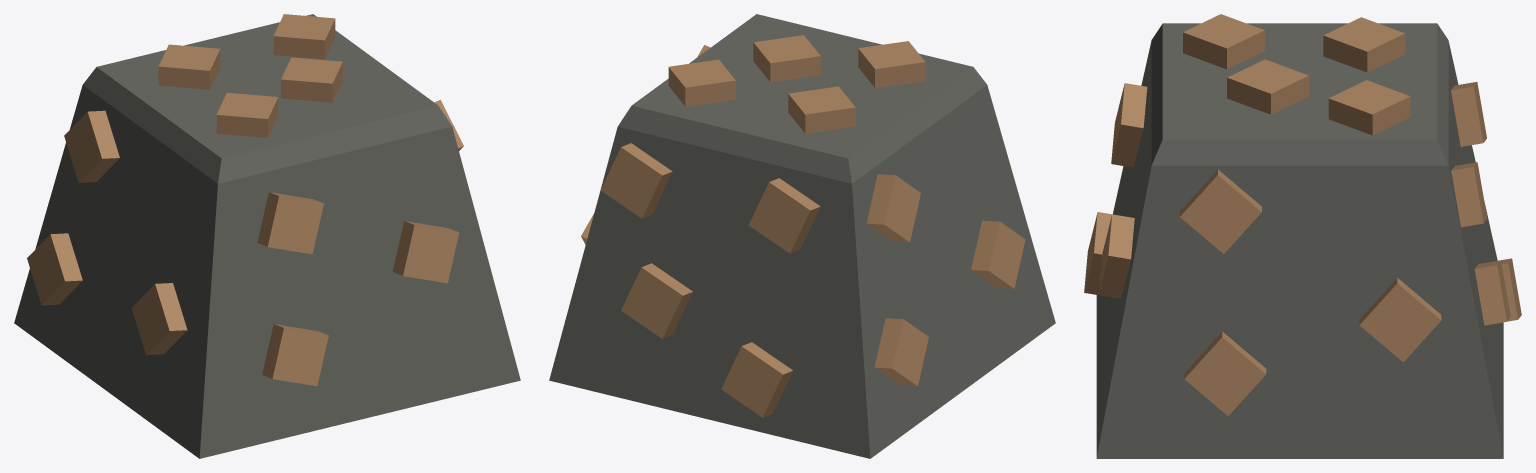
Rendered from IronOreDrop.fbx.
3 renders of one model, left to right at view 1: azimuth 30°, elevation 25°; view 2: azimuth 150°, elevation 25°; view 3: azimuth 270°, elevation 25°, orthographic. The views are drawn at different scales.
Parts seen in each view (by area): view 1: IronOre; view 2: IronOre; view 3: IronOre.
Part boxes in pixels (left/top/right/bottom): IronOre: left=14, top=14, right=520, bottom=458; IronOre: left=549, top=14, right=1055, bottom=458; IronOre: left=1084, top=14, right=1521, bottom=458.
Bounding box in the file's own units: 181 × 144 × 182.
